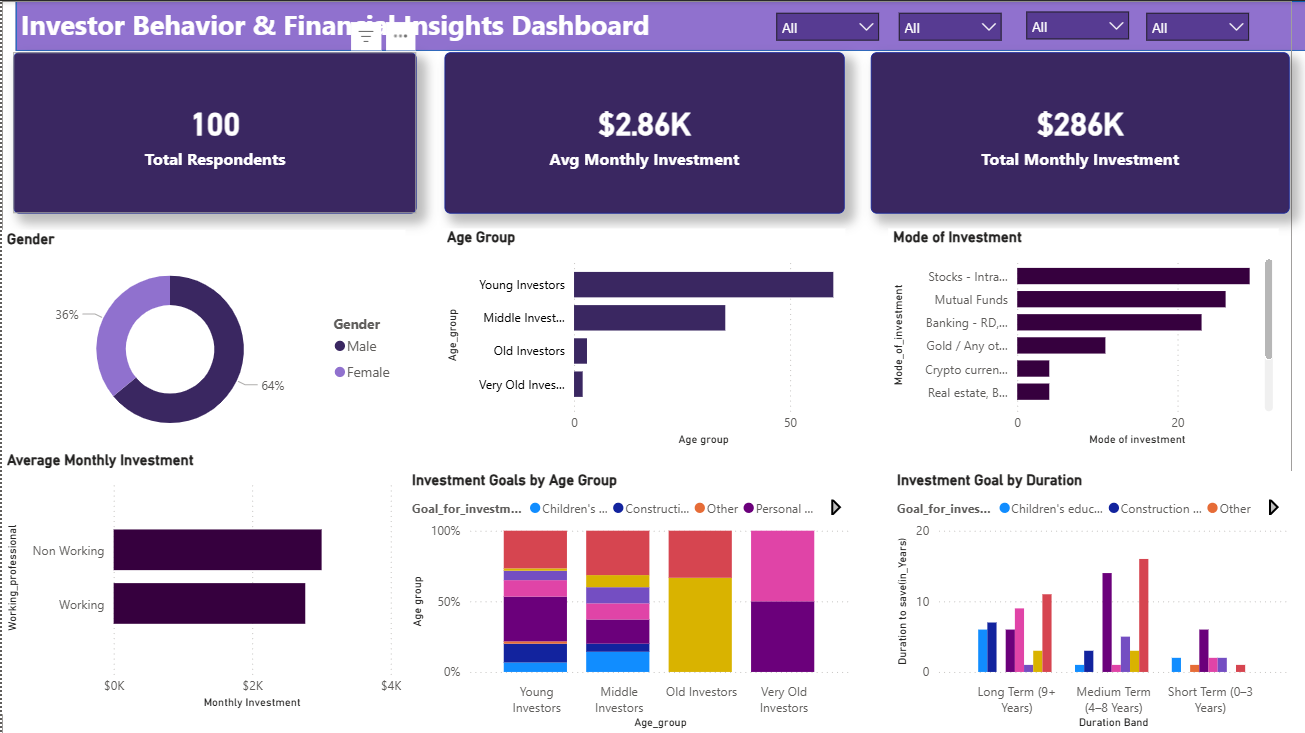

The page's visual inventory and layout, read from the dashboard file:
{"tool":"powerbi","page":{"name":"Investor Dashboard","canvas":[1280,720],"ordinal":0},"visuals":[{"type":"card","fields":{"Values":["Investment Survey Dataset.Total Respondents"]},"box":[10.5,50,396.3,158.3],"z":0,"group":"g1"},{"type":"card","fields":{"Values":["Investment Survey Dataset.Avg Monthly Investment"]},"box":[433.5,49.9,392.4,158.7],"z":1000,"group":"g1"},{"type":"card","fields":{"Values":["Investment Survey Dataset.Total Monthly Investment"]},"box":[852.6,49.9,411.2,158.7],"z":2000,"group":"g1"},{"type":"donutChart","title":"Gender ","fields":{"Category":["Investment Survey Dataset.Gender"],"Y":["CountNonNull(Investment Survey Dataset.Gender)"]},"box":[-0.5,224.2,396.3,218.4],"z":3000,"group":"g1"},{"type":"barChart","title":"Age Group","fields":{"Category":["Investment Survey Dataset.Age_group"],"Y":["CountNonNull(Investment Survey Dataset.Age_group)"]},"box":[431.9,223.3,396.3,218.4],"z":4000,"group":"g1"},{"type":"barChart","title":"Mode of Investment","fields":{"Category":["Investment Survey Dataset.Mode_of_investment"],"Y":["CountNonNull(Investment Survey Dataset.Mode_of_investment)"]},"box":[869.9,223.3,382.8,218.4],"z":5000,"group":"g1"},{"type":"barChart","title":"Average Monthly Investment ","fields":{"Category":["Investment Survey Dataset.Working_professional"],"Y":["Investment Survey Dataset.Avg Monthly Investment"]},"box":[0,441.5,396.8,258.3],"z":6000,"group":"g1"},{"type":"hundredPercentStackedColumnChart","title":"Investment Goals by Age Group","fields":{"Category":["Investment Survey Dataset.Age_group"],"Series":["Investment Survey Dataset.Goal_for_investment"],"Y":["CountNonNull(Investment Survey Dataset.Age_group)"]},"box":[396.7,461.7,440,258.3],"z":7000,"group":"g1"},{"type":"clusteredColumnChart","title":"Investment Goal by Duration","fields":{"Category":["Investment Survey Dataset.Duration Band"],"Series":["Investment Survey Dataset.Goal_for_investment"],"Y":["CountNonNull(Investment Survey Dataset.Duration_to_save(in_Years) )"]},"box":[872.9,461.7,393.9,258.3],"z":8000,"group":"g1"},{"type":"shape","box":[13,0,1266.7,49.1],"z":9000},{"type":"textbox","box":[13.5,0,770.6,49.1],"z":10000},{"type":"slicer","fields":{"Values":["Investment Survey Dataset.Gender"]},"box":[748.7,0.9,121.2,51.9],"z":11000,"group":"g1"},{"type":"slicer","fields":{"Values":["Investment Survey Dataset.Working_professional"]},"box":[869.9,0.9,121.2,51.9],"z":12000},{"type":"slicer","fields":{"Values":["Investment Survey Dataset.Age_group"]},"box":[994.1,0,121.2,51.9],"z":13000,"group":"g1"},{"type":"slicer","fields":{"Values":["Investment Survey Dataset.Mode_of_investment"]},"box":[1112.3,0.9,121.2,51.9],"z":14000,"group":"g1"},{"type":"group","id":"g1","title":"Group 1","box":[-0.5,0,1267.2,719.9],"z":14001}]}

Visuals, with their boxes in screenshot pixels (x1, y1, x2, y2), scaled from the page's 1280x720 canvas onto the 1305x733 screenshot:
card - Investment Survey Dataset.Total Respondents: <bbox>11, 51, 415, 212</bbox>
card - Investment Survey Dataset.Avg Monthly Investment: <bbox>442, 51, 842, 212</bbox>
card - Investment Survey Dataset.Total Monthly Investment: <bbox>869, 51, 1288, 212</bbox>
"Gender " donutChart: <bbox>0, 228, 404, 451</bbox>
"Age Group" barChart: <bbox>440, 227, 844, 450</bbox>
"Mode of Investment" barChart: <bbox>887, 227, 1277, 450</bbox>
"Average Monthly Investment " barChart: <bbox>0, 449, 405, 712</bbox>
"Investment Goals by Age Group" hundredPercentStackedColumnChart: <bbox>404, 470, 853, 732</bbox>
"Investment Goal by Duration" clusteredColumnChart: <bbox>890, 470, 1292, 732</bbox>
shape: <bbox>13, 0, 1304, 50</bbox>
textbox: <bbox>14, 0, 799, 50</bbox>
slicer - Investment Survey Dataset.Gender: <bbox>763, 1, 887, 54</bbox>
slicer - Investment Survey Dataset.Working_professional: <bbox>887, 1, 1010, 54</bbox>
slicer - Investment Survey Dataset.Age_group: <bbox>1014, 0, 1137, 53</bbox>
slicer - Investment Survey Dataset.Mode_of_investment: <bbox>1134, 1, 1258, 54</bbox>
"Group 1" group: <bbox>0, 0, 1291, 732</bbox>
